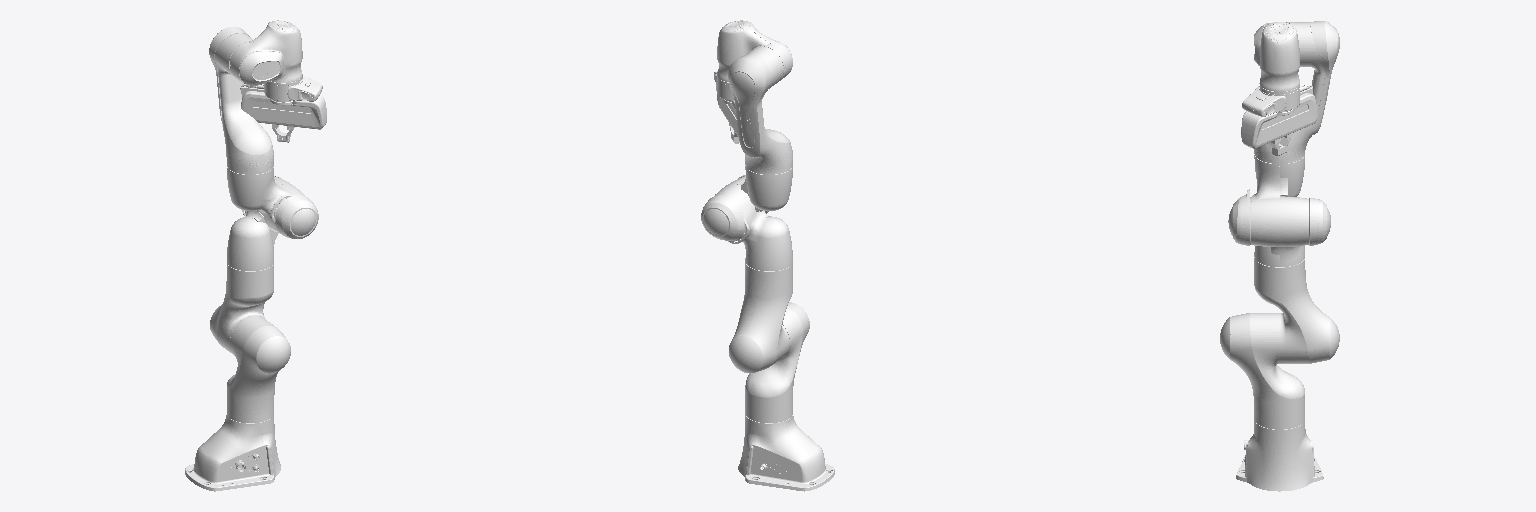
robot.urdf — panda:
<?xml version="1.0" ?>
<!-- =================================================================================== -->
<!-- |    This document was autogenerated by xacro from panda_arm_hand.urdf.xacro      | -->
<!-- |    EDITING THIS FILE BY HAND IS NOT RECOMMENDED                                 | -->
<!-- =================================================================================== -->
<robot name="panda" xmlns:xacro="http://www.ros.org/wiki/xacro">
  <link name="panda_link0">
  	<inertial>
      <origin rpy="0 0 0" xyz="0 0 0.05"/>
       <mass value="2.9"/>
       <inertia ixx="0.1" ixy="0" ixz="0" iyy="0.1" iyz="0" izz="0.1"/>
    </inertial>
    <visual>
      <geometry>
        <mesh filename="package://meshes/visual/link0.obj"/>
      </geometry>
      <material name="panda_white">
    		<color rgba="1. 1. 1. 1."/>
  		</material>
    </visual>
    <collision>
      <geometry>
        <mesh filename="package://meshes/collision/link0.obj"/>
      </geometry>
      <material name="panda_white"/>
    </collision>
  </link>
  <link name="panda_link1">
  	<inertial>
      <origin rpy="0 0 0" xyz="0 -0.04 -0.05"/>
       <mass value="2.7"/>
       <inertia ixx="0.1" ixy="0" ixz="0" iyy="0.1" iyz="0" izz="0.1"/>
    </inertial>
    <visual>
      <geometry>
        <mesh filename="package://meshes/visual/link1.obj"/>
      </geometry>
      <material name="panda_white"/>
    </visual>
    <collision>
      <geometry>
        <mesh filename="package://meshes/collision/link1.obj"/>
      </geometry>
      <material name="panda_white"/>
    </collision>
  </link>
  <joint name="panda_joint1" type="revolute">
    <safety_controller k_position="100.0" k_velocity="40.0" soft_lower_limit="-2.8973" soft_upper_limit="2.8973"/>
    <origin rpy="0 0 0" xyz="0 0 0.333"/>
    <parent link="panda_link0"/>
    <child link="panda_link1"/>
    <axis xyz="0 0 1"/>
    <limit effort="87" lower="-2.9671" upper="2.9671" velocity="2.1750"/>
  </joint>
  <link name="panda_link2">
  	<inertial>
      <origin rpy="0 0 0" xyz="0 -0.04 0.06"/>
       <mass value="2.73"/>
       <inertia ixx="0.1" ixy="0" ixz="0" iyy="0.1" iyz="0" izz="0.1"/>
    </inertial>
    <visual>
      <geometry>
        <mesh filename="package://meshes/visual/link2.obj"/>
      </geometry>
      <material name="panda_white"/>
    </visual>
    <collision>
      <geometry>
        <mesh filename="package://meshes/collision/link2.obj"/>
      </geometry>
      <material name="panda_white"/>
    </collision>
  </link>
  <joint name="panda_joint2" type="revolute">
    <safety_controller k_position="100.0" k_velocity="40.0" soft_lower_limit="-1.7628" soft_upper_limit="1.7628"/>
    <origin rpy="-1.57079632679 0 0" xyz="0 0 0"/>
    <parent link="panda_link1"/>
    <child link="panda_link2"/>
    <axis xyz="0 0 1"/>
    <limit effort="87" lower="-1.8326" upper="1.8326" velocity="2.1750"/>
  </joint>
  <link name="panda_link3">
	  <inertial>
      <origin rpy="0 0 0" xyz="0.01 0.01 -0.05"/>
       <mass value="2.04"/>
       <inertia ixx="0.1" ixy="0" ixz="0" iyy="0.1" iyz="0" izz="0.1"/>
    </inertial>
    <visual>
      <geometry>
        <mesh filename="package://meshes/visual/link3.obj"/>
      </geometry>
      <material name="panda_red">
    		<color rgba="1. 1. 1. 1."/>
  		</material>
    </visual>
    <collision>
      <geometry>
        <mesh filename="package://meshes/collision/link3.obj"/>
      </geometry>
    </collision>
  </link>
  <joint name="panda_joint3" type="revolute">
    <safety_controller k_position="100.0" k_velocity="40.0" soft_lower_limit="-2.8973" soft_upper_limit="2.8973"/>
    <origin rpy="1.57079632679 0 0" xyz="0 -0.316 0"/>
    <parent link="panda_link2"/>
    <child link="panda_link3"/>
    <axis xyz="0 0 1"/>
    <limit effort="87" lower="-2.9671" upper="2.9671" velocity="2.1750"/>
  </joint>
  <link name="panda_link4">
  	<inertial>
      <origin rpy="0 0 0" xyz="-0.03 0.03 0.02"/>
       <mass value="2.08"/>
       <inertia ixx="0.1" ixy="0" ixz="0" iyy="0.1" iyz="0" izz="0.1"/>
    </inertial>
    <visual>
      <geometry>
        <mesh filename="package://meshes/visual/link4.obj"/>
      </geometry>
      <material name="panda_white"/>
    </visual>
    <collision>
      <geometry>
        <mesh filename="package://meshes/collision/link4.obj"/>
      </geometry>
      <material name="panda_white"/>
    </collision>
  </link>
  <joint name="panda_joint4" type="revolute">
    <safety_controller k_position="100.0" k_velocity="40.0" soft_lower_limit="-3.0718" soft_upper_limit="-0.0698"/>
    <origin rpy="1.57079632679 0 0" xyz="0.0825 0 0"/>
    <parent link="panda_link3"/>
    <child link="panda_link4"/>
    <axis xyz="0 0 1"/>
    <limit effort="87" lower="-3.1416" upper="0.0" velocity="2.1750"/>
  </joint>
  <link name="panda_link5">
  	<inertial>
      <origin rpy="0 0 0" xyz="0 0.04 -0.12"/>
       <mass value="3"/>
       <inertia ixx="0.1" ixy="0" ixz="0" iyy="0.1" iyz="0" izz="0.1"/>
    </inertial>
    <visual>
      <geometry>
        <mesh filename="package://meshes/visual/link5.obj"/>
      </geometry>
      <material name="panda_white"/>
    </visual>
    <collision>
      <geometry>
        <mesh filename="package://meshes/collision/link5.obj"/>
      </geometry>
      <material name="panda_white"/>
    </collision>
  </link>
  <joint name="panda_joint5" type="revolute">
    <safety_controller k_position="100.0" k_velocity="40.0" soft_lower_limit="-2.8973" soft_upper_limit="2.8973"/>
    <origin rpy="-1.57079632679 0 0" xyz="-0.0825 0.384 0"/>
    <parent link="panda_link4"/>
    <child link="panda_link5"/>
    <axis xyz="0 0 1"/>
    <limit effort="12" lower="-2.9671" upper="2.9671" velocity="2.6100"/>
  </joint>
  <link name="panda_link6">
  	<inertial>
      <origin rpy="0 0 0" xyz="0.04 0 0"/>
       <mass value="1.3"/>
       <inertia ixx="0.1" ixy="0" ixz="0" iyy="0.1" iyz="0" izz="0.1"/>
    </inertial>
    <visual>
      <geometry>
        <mesh filename="package://meshes/visual/link6.obj"/>
      </geometry>
      <material name="panda_white"/>
    </visual>
    <collision>
      <geometry>
        <mesh filename="package://meshes/collision/link6.obj"/>
      </geometry>
      <material name="panda_white"/>
    </collision>
  </link>
  <joint name="panda_joint6" type="revolute">
    <safety_controller k_position="100.0" k_velocity="40.0" soft_lower_limit="-0.0175" soft_upper_limit="3.7525"/>
    <origin rpy="1.57079632679 0 0" xyz="0 0 0"/>
    <parent link="panda_link5"/>
    <child link="panda_link6"/>
    <axis xyz="0 0 1"/>
    <limit effort="12" lower="-0.0873" upper="3.8223" velocity="2.6100"/>
  </joint>
  <link name="panda_link7">
  	<inertial>
      <origin rpy="0 0 0" xyz="0 0 0.08"/>
       <mass value=".2"/>
       <inertia ixx="0.1" ixy="0" ixz="0" iyy="0.1" iyz="0" izz="0.1"/>
    </inertial>
    <visual>
      <geometry>
        <mesh filename="package://meshes/visual/link7.obj"/>
      </geometry>
      <material name="panda_white"/>
    </visual>
    <collision>
      <geometry>
        <mesh filename="package://meshes/collision/link7.obj"/>
      </geometry>
      <material name="panda_white"/>
    </collision>
  </link>
  <joint name="panda_joint7" type="revolute">
    <safety_controller k_position="100.0" k_velocity="40.0" soft_lower_limit="-2.8973" soft_upper_limit="2.8973"/>
    <origin rpy="1.57079632679 0 0" xyz="0.088 0 0"/>
    <parent link="panda_link6"/>
    <child link="panda_link7"/>
    <axis xyz="0 0 1"/>
    <limit effort="12" lower="-2.9671" upper="2.9671" velocity="2.6100"/>
  </joint>
  <link name="panda_link8">
  	 <inertial>
      <origin rpy="0 0 0" xyz="0 0 0"/>
       <mass value="0.0"/>
       <inertia ixx="0.1" ixy="0" ixz="0" iyy="0.1" iyz="0" izz="0.1"/>
    </inertial>
  </link>
  <joint name="panda_joint8" type="fixed">
    <origin rpy="0 0 0" xyz="0 0 0.107"/>
    <parent link="panda_link7"/>
    <child link="panda_link8"/>
    <axis xyz="0 0 0"/>
  </joint>
  <joint name="panda_hand_joint" type="fixed">
    <parent link="panda_link8"/>
    <child link="panda_hand"/>
    <origin rpy="0 0 -0.785398163397" xyz="0 0 0"/>
  </joint>
  <link name="panda_hand">
  	<inertial>
      <origin rpy="0 0 0" xyz="0 0 0.04"/>
       <mass value=".81"/>
       <inertia ixx="0.1" ixy="0" ixz="0" iyy="0.1" iyz="0" izz="0.1"/>
    </inertial>
    <visual>
      <geometry>
        <mesh filename="package://meshes/visual/hand.obj"/>
      </geometry>
      <material name="panda_white"/>
    </visual>
    <collision>
      <geometry>
        <mesh filename="package://meshes/collision/hand.obj"/>
      </geometry>
      <material name="panda_white"/>
    </collision>
  </link>
  <link name="panda_leftfinger">
       <contact>
      <friction_anchor/>
      <stiffness value="30000.0"/>
      <damping value="1000.0"/>
      <spinning_friction value="0.1"/>
      <lateral_friction value="1.0"/>
    </contact>
  	<inertial>
      <origin rpy="0 0 0" xyz="0 0.01 0.02"/>
       <mass value="0.1"/>
       <inertia ixx="0.1" ixy="0" ixz="0" iyy="0.1" iyz="0" izz="0.1"/>
    </inertial>
    <visual>
      <geometry>
        <mesh filename="package://meshes/visual/finger.obj"/>
      </geometry>
      <material name="panda_white"/>
    </visual>
    <collision>
      <geometry>
        <mesh filename="package://meshes/collision/finger.obj"/>
      </geometry>
      <material name="panda_white"/>
    </collision>
  </link>
  <link name="panda_rightfinger">
        <contact>
      <friction_anchor/>
      <stiffness value="30000.0"/>
      <damping value="1000.0"/>
      <spinning_friction value="0.1"/>
      <lateral_friction value="1.0"/>
    </contact>

  	<inertial>
      <origin rpy="0 0 0" xyz="0 -0.01 0.02"/>
       <mass value="0.1"/>
       <inertia ixx="0.1" ixy="0" ixz="0" iyy="0.1" iyz="0" izz="0.1"/>
    </inertial>
    <visual>
      <origin rpy="0 0 3.14159265359" xyz="0 0 0"/>
      <geometry>
        <mesh filename="package://meshes/visual/finger.obj"/>
      </geometry>
      <material name="panda_white"/>
    </visual>
    <collision>
      <origin rpy="0 0 3.14159265359" xyz="0 0 0"/>
      <geometry>
        <mesh filename="package://meshes/collision/finger.obj"/>
      </geometry>
      <material name="panda_white"/>
    </collision>
  </link>
  <joint name="panda_finger_joint1" type="prismatic">
    <parent link="panda_hand"/>
    <child link="panda_leftfinger"/>
    <origin rpy="0 0 0" xyz="0 0 0.0584"/>
    <axis xyz="0 1 0"/>
    <limit effort="20" lower="0.0" upper="0.04" velocity="0.2"/>
  </joint>
  <joint name="panda_finger_joint2" type="prismatic">
    <parent link="panda_hand"/>
    <child link="panda_rightfinger"/>
    <origin rpy="0 0 0" xyz="0 0 0.0584"/>
    <axis xyz="0 -1 0"/>
    <limit effort="20" lower="0.0" upper="0.04" velocity="0.2"/>
    <mimic joint="panda_finger_joint1"/>
  </joint>
   <link name="panda_grasptarget">
 <inertial>
      <origin rpy="0 0 0" xyz="0 0 0"/>
       <mass value="0.0"/>
       <inertia ixx="0.1" ixy="0" ixz="0" iyy="0.1" iyz="0" izz="0.1"/>
    </inertial>
   </link>
   <joint name="panda_grasptarget_hand" type="fixed">
    <parent link="panda_hand"/>
    <child link="panda_grasptarget"/>
    <origin rpy="0 0 0" xyz="0 0 0.105"/>
  </joint>
  
</robot>

--- Render facts (derived) ---
3 views of the same robot in one strip: view 1: azimuth 30°, elevation 25°; view 2: azimuth 150°, elevation 25°; view 3: azimuth 270°, elevation 25° (orthographic).
Model panda with 13 links and 12 joints (7 revolute, 2 prismatic, 3 fixed), rooted at panda_link0, posed every joint at zero.
Visible links, largest first — view 1: panda_link0, panda_link1, panda_link5, panda_link4, panda_link6, panda_link2, panda_link3, panda_hand, panda_link7; view 2: panda_link0, panda_link5, panda_link2, panda_link3, panda_link1, panda_link6, panda_link4; view 3: panda_link1, panda_link2, panda_link0, panda_link4, panda_link5, panda_link3, panda_link6, panda_hand, panda_link7.
Link boxes in pixels (<box>): panda_link0: <box>185,415,280,491</box>; panda_link1: <box>227,316,290,422</box>; panda_link5: <box>209,27,273,174</box>; panda_link4: <box>227,167,318,238</box>; panda_link6: <box>230,20,302,85</box>; panda_link2: <box>210,264,273,355</box>; panda_link3: <box>227,175,291,270</box>; panda_hand: <box>240,84,326,129</box>; panda_link7: <box>262,76,322,102</box>; panda_link0: <box>738,414,834,491</box>; panda_link5: <box>728,46,792,174</box>; panda_link2: <box>729,262,792,373</box>; panda_link3: <box>701,184,792,270</box>; panda_link1: <box>745,302,809,422</box>; panda_link6: <box>717,20,792,81</box>; panda_link4: <box>726,165,792,213</box>; panda_link1: <box>1220,313,1304,429</box>; panda_link2: <box>1254,257,1339,363</box>; panda_link0: <box>1236,420,1323,491</box>; panda_link4: <box>1228,154,1304,246</box>; panda_link5: <box>1254,21,1339,163</box>; panda_link3: <box>1254,196,1330,266</box>; panda_link6: <box>1254,22,1299,91</box>; panda_hand: <box>1241,84,1317,148</box>; panda_link7: <box>1242,83,1299,116</box>.
Bounding box of the posed robot: 0.3253 × 0.2593 × 1.11 m (x, y, z).
11 mesh visuals loaded from 10 distinct referenced files (10 OBJ).
